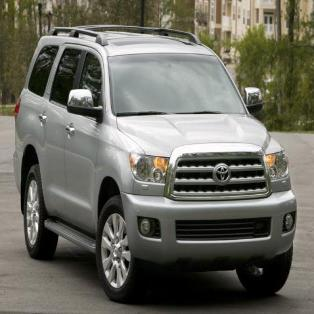Auto: (13, 24, 298, 303)
